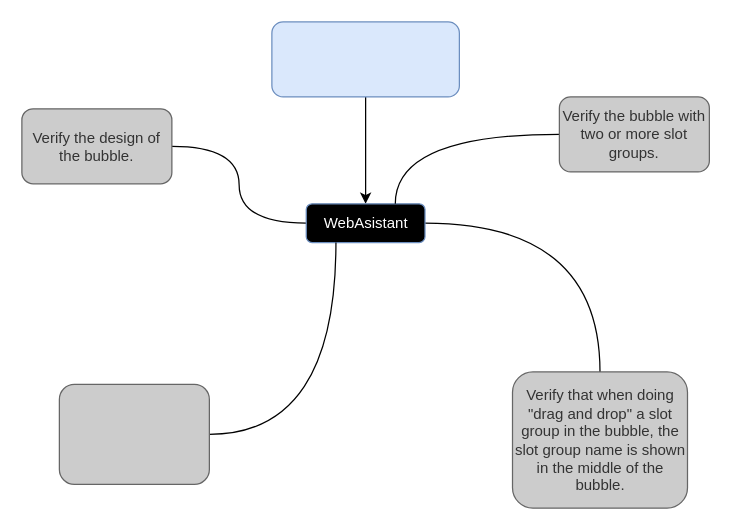
This 731x530 diagram has some shape labels left out. Here are the shapes that lost their labels. From the top down, the centre of each, then its label:
At [365,59]: "DEV-8527 - Entity grading item configuration have one bubble".
At [133,433]: "Verify the validation of the bubble when it is empty.".
